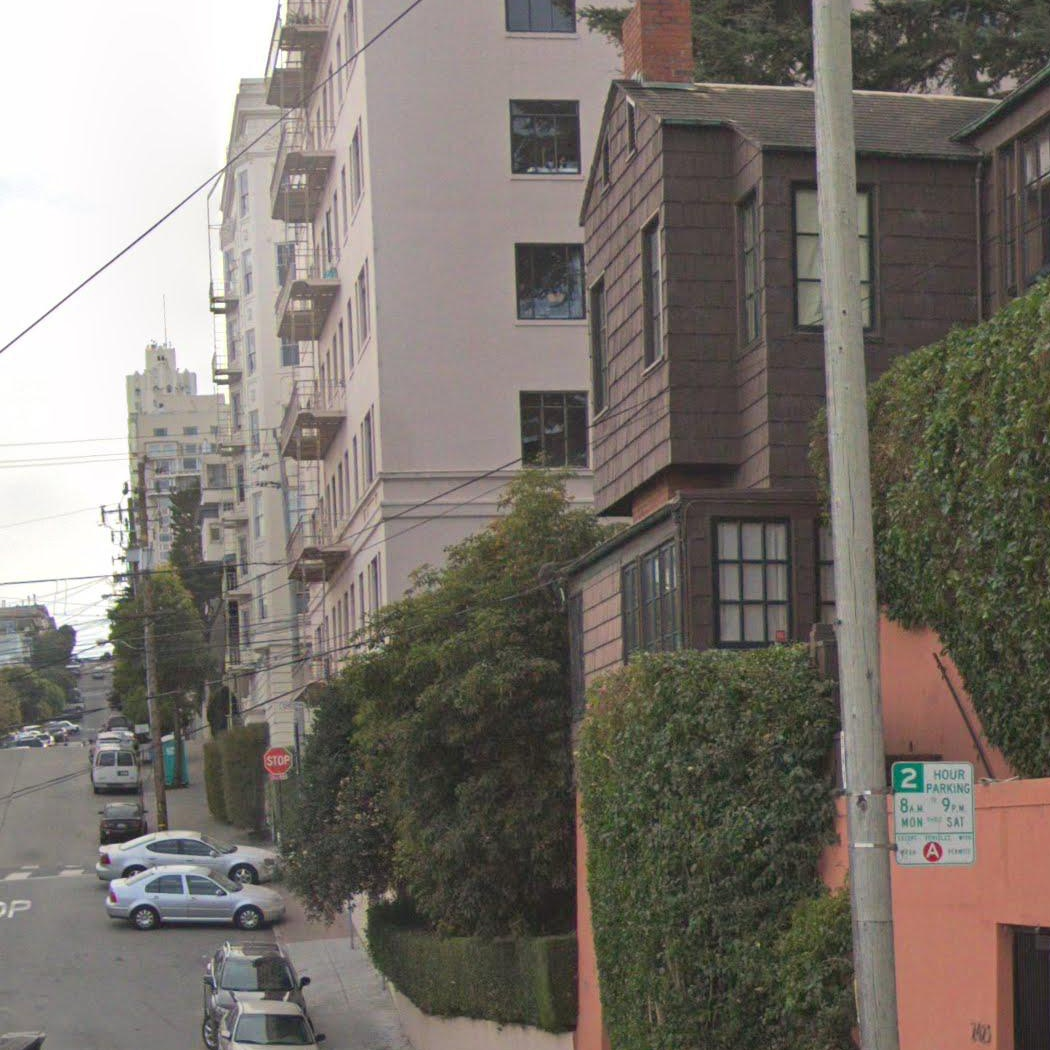2 Hour Parking: (892, 761, 975, 866)
